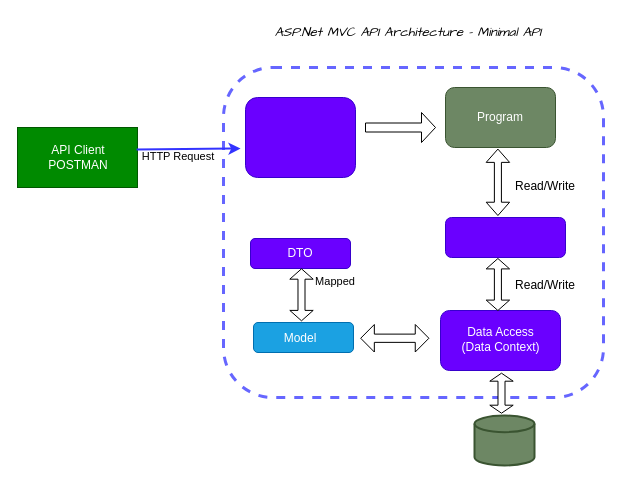
Image size: 622x483. Some labels were removed from this diagram. Each missing label, with the centre of its shape:
DB: pixel 504 440
Midddleware (Request Pipeline): pixel 300 137
Repository: pixel 505 237
